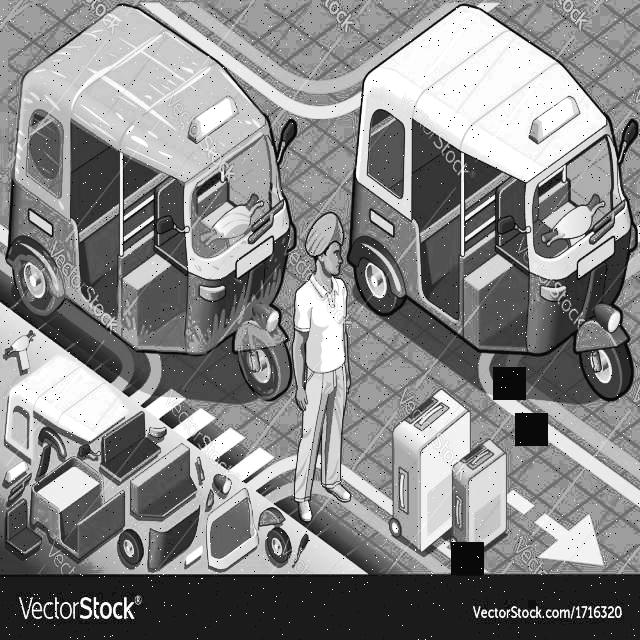Auto-Rickshaw: (11, 23, 343, 417), (353, 8, 639, 433)
